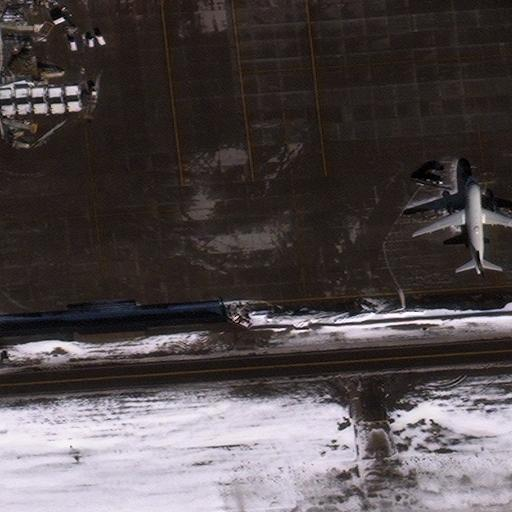Medium Civil Transport: (415, 176, 512, 273)
